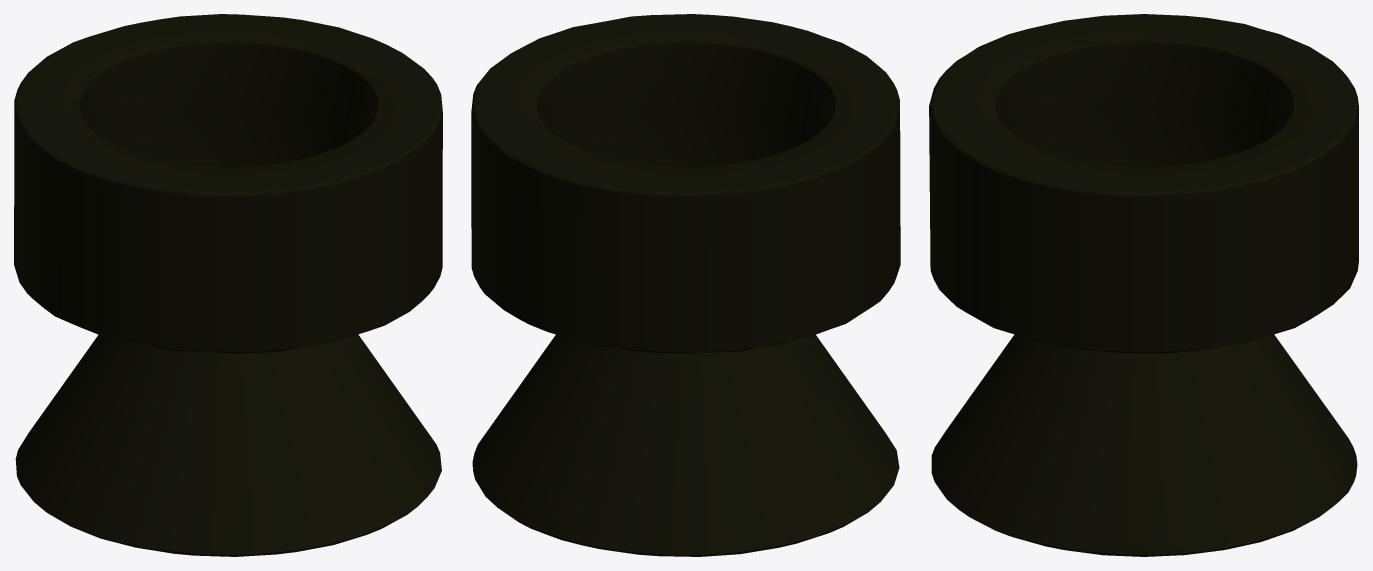
Rendered from v2rmbk32ubtn.glb.
The picture shows the model from 3 angles, left to right: view 1: azimuth 30°, elevation 25°; view 2: azimuth 150°, elevation 25°; view 3: azimuth 270°, elevation 25°; orthographic projection.
Visible parts, largest first — view 1: 90590503-STOCKHOLM 001; view 2: 90590503-STOCKHOLM 001; view 3: 90590503-STOCKHOLM 001.
Boxes of the visible parts, x1,y1,x2,y2 form: 90590503-STOCKHOLM 001: (14, 14, 442, 556); 90590503-STOCKHOLM 001: (471, 14, 900, 556); 90590503-STOCKHOLM 001: (929, 14, 1358, 556).
Size of the model in its own units: 0.0651 by 0.0611 by 0.0652.
Materials: 1 (1 with a texture image).
